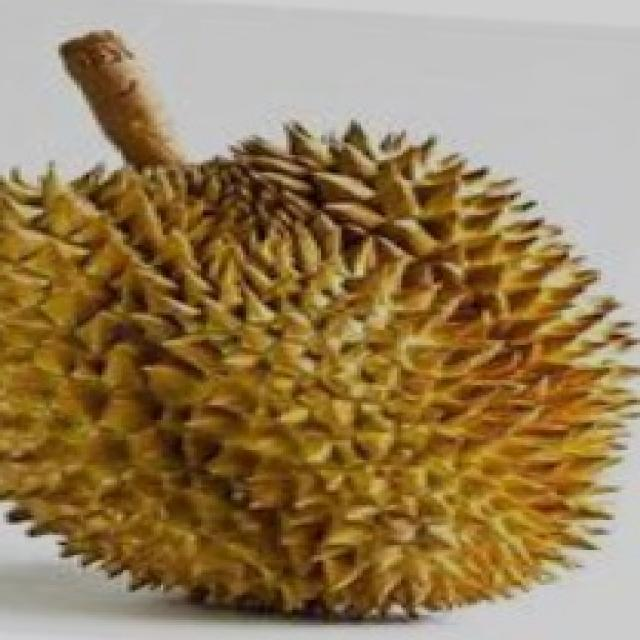fruit: (292, 265, 637, 640), (3, 282, 354, 640)
